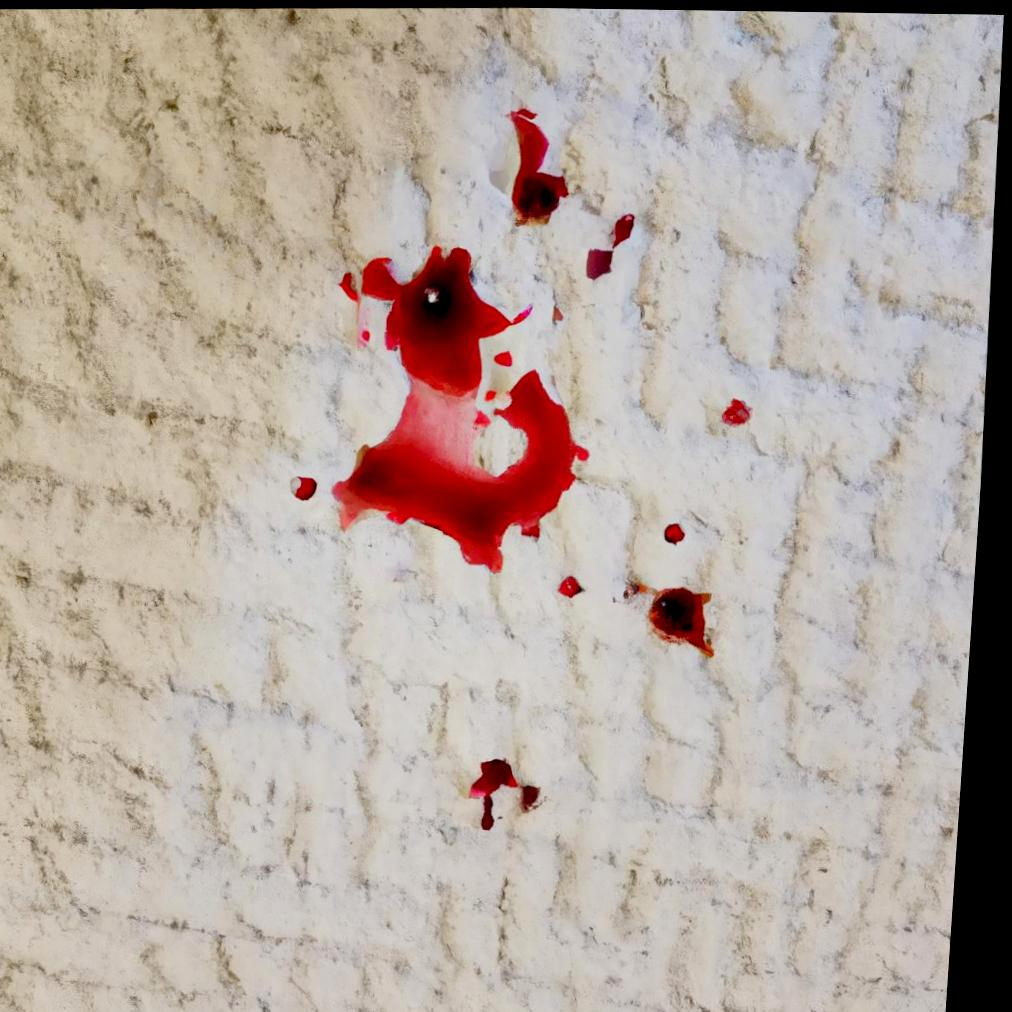Fire: (337, 243, 596, 574), (510, 107, 573, 226), (655, 584, 722, 656), (479, 756, 529, 829), (610, 211, 637, 248), (589, 246, 617, 279), (527, 783, 553, 813), (565, 573, 593, 596), (300, 475, 323, 500), (670, 521, 691, 544)
